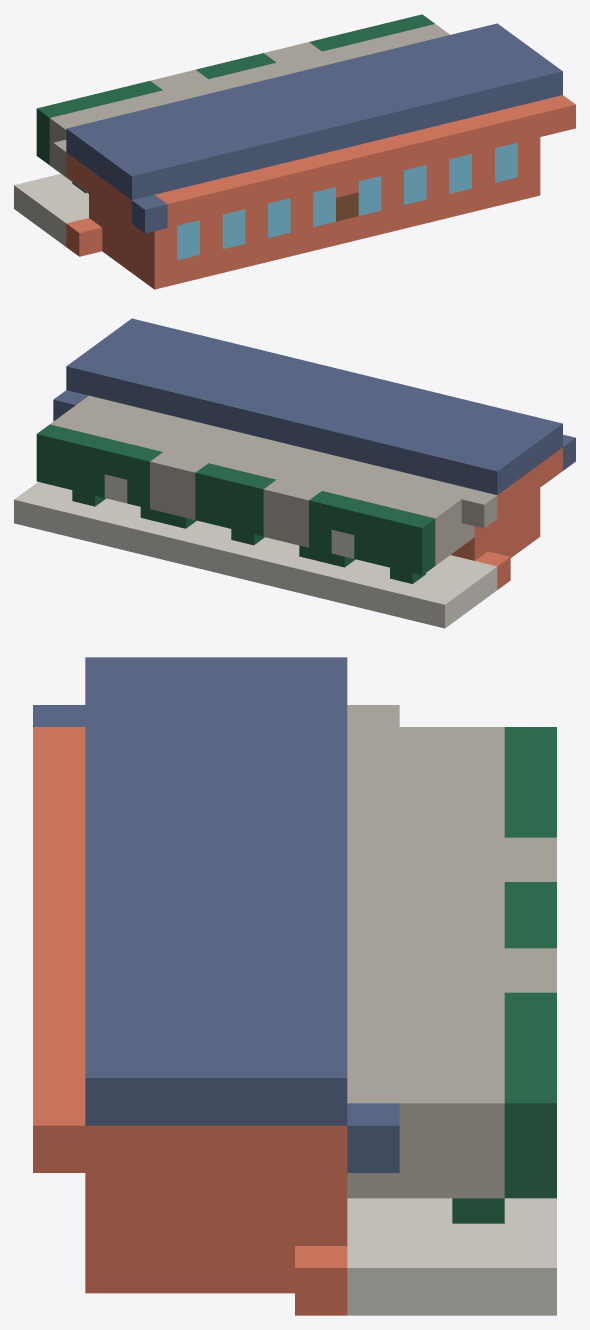
Rendered from train_station.glb.
3 views of the same model, one above another, from view 1: azimuth 30°, elevation 25°; view 2: azimuth 150°, elevation 25°; view 3: azimuth 270°, elevation 25° (orthographic). The views are drawn at different scales.
Parts seen in each view (by area): view 1: train_station_roof_slate, train_station_brick, train_station_roof_flat, train_station_window, train_station_pub_green, train_station_concrete, train_station_door; view 2: train_station_roof_slate, train_station_roof_flat, train_station_concrete, train_station_pub_green, train_station_brick; view 3: train_station_roof_slate, train_station_roof_flat, train_station_brick, train_station_concrete, train_station_pub_green.
Boxes of the visible parts, x1,y1,x2,y2 form: train_station_roof_slate: (66,23,562,233); train_station_brick: (66,95,575,289); train_station_roof_flat: (49,24,449,193); train_station_window: (177,142,517,260); train_station_pub_green: (36,14,434,193); train_station_concrete: (14,174,88,246); train_station_door: (336,192,358,221); train_station_roof_slate: (53,318,575,495); train_station_roof_flat: (50,395,497,565); train_station_concrete: (14,474,497,628); train_station_pub_green: (36,424,435,583); train_station_brick: (452,447,562,589); train_station_roof_slate: (33,657,399,1172); train_station_roof_flat: (347,705,556,1198); train_station_brick: (33,727,347,1315); train_station_concrete: (347,1198,556,1315); train_station_pub_green: (452,727,556,1223).
Size of the model in its own units: 31.73 by 8.35 by 16.7.
